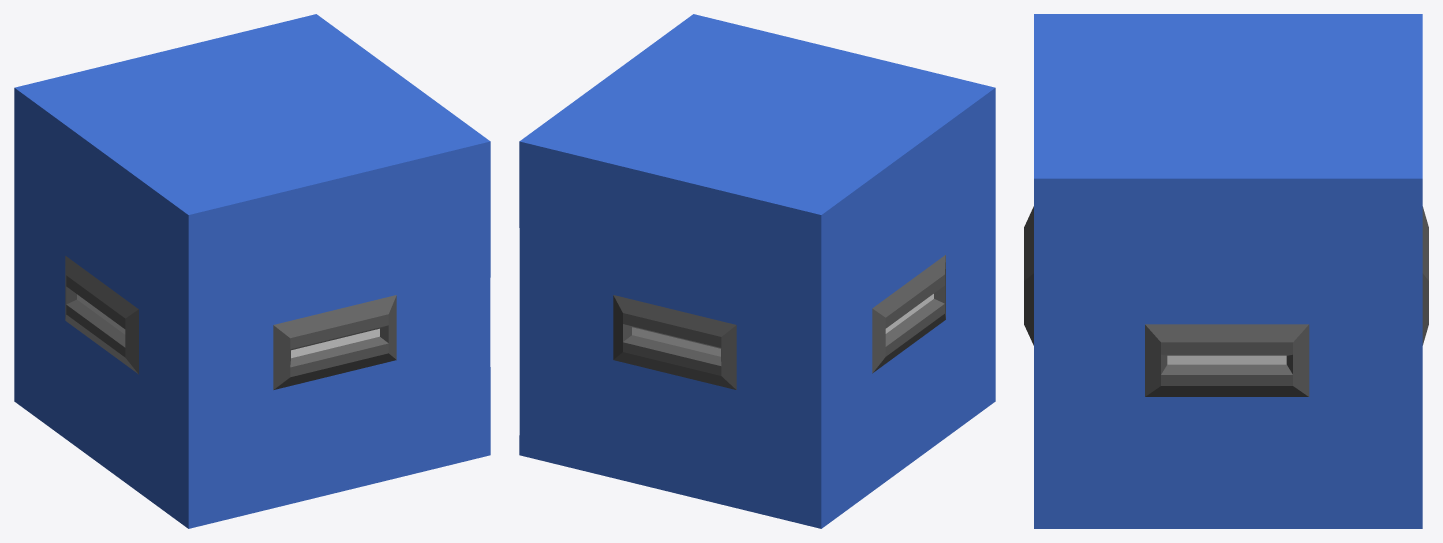
File: LightBox 2.fbx
3 renders of one model, left to right at view 1: azimuth 30°, elevation 25°; view 2: azimuth 150°, elevation 25°; view 3: azimuth 270°, elevation 25°, orthographic. The views are drawn at different scales.
Parts seen in each view (by area): view 1: LightBox 2; view 2: LightBox 2; view 3: LightBox 2.
Part boxes in pixels (<box>): LightBox 2: <box>14,14,490,528</box>; LightBox 2: <box>519,14,995,528</box>; LightBox 2: <box>1024,14,1428,528</box>.
Bounding box in the file's own units: 188 × 179 × 187.
